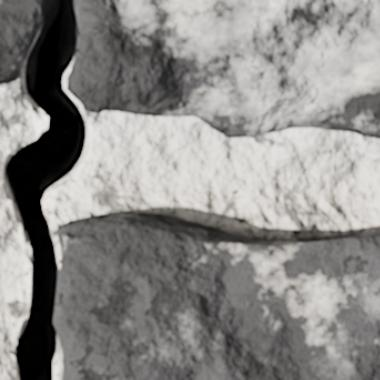brick: (54, 211, 379, 379)
broken_brick: (65, 0, 379, 138), (0, 0, 41, 84)
crack: (2, 0, 91, 379)
